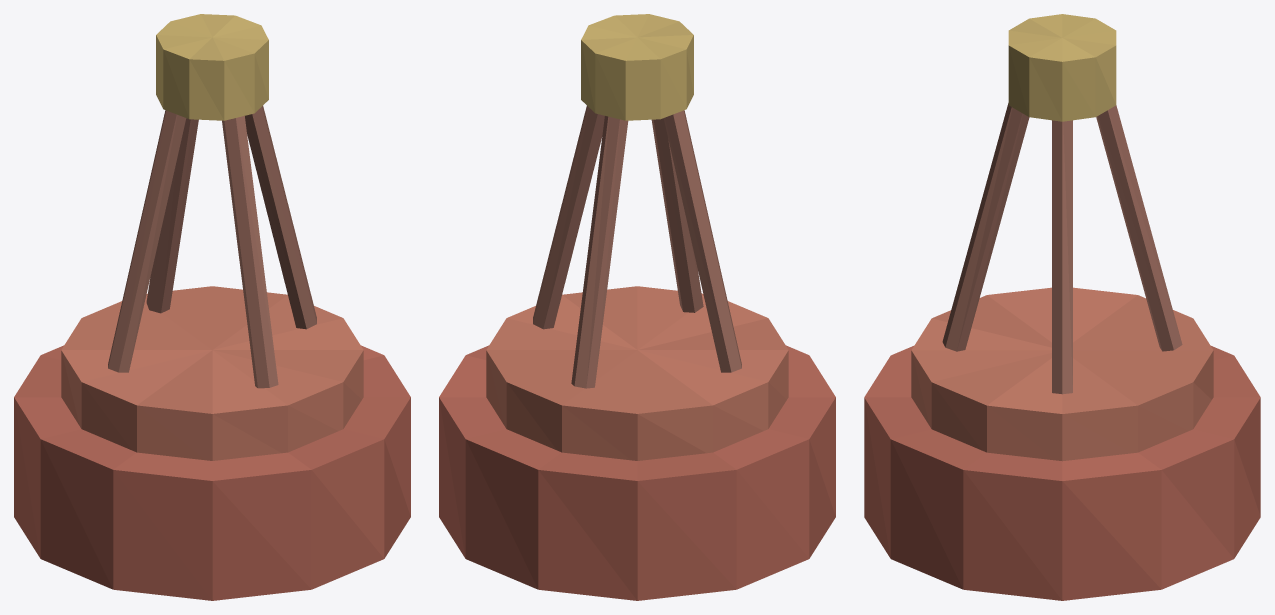
The model's file is navigation_buoy_red.glb.
3 views of the same model, side by side, from view 1: azimuth 30°, elevation 25°; view 2: azimuth 150°, elevation 25°; view 3: azimuth 270°, elevation 25° (orthographic).
Visible parts, largest first — view 1: base, upper_base, top, support_3, support_2, support_0, support_1; view 2: base, upper_base, top, support_1, support_2, support_0, support_3; view 3: base, upper_base, top, support_3, support_1, support_0.
Boxes of the visible parts, <box> form: base: <box>14,345,410,600</box>; upper_base: <box>61,286,363,460</box>; top: <box>156,14,268,120</box>; support_3: <box>222,116,278,388</box>; support_2: <box>108,110,186,372</box>; support_0: <box>245,106,316,329</box>; support_1: <box>146,118,198,313</box>; base: <box>439,345,835,600</box>; upper_base: <box>486,286,788,460</box>; top: <box>581,14,693,120</box>; support_1: <box>571,116,628,388</box>; support_2: <box>663,110,741,372</box>; support_0: <box>533,106,604,329</box>; support_3: <box>651,118,703,312</box>; base: <box>864,346,1260,600</box>; upper_base: <box>911,287,1213,461</box>; top: <box>1008,14,1116,121</box>; support_3: <box>942,103,1029,351</box>; support_1: <box>1096,105,1182,351</box>; support_0: <box>1052,120,1072,394</box>.
Bounding box in the file's own units: 0.84 × 1.12 × 0.84.
